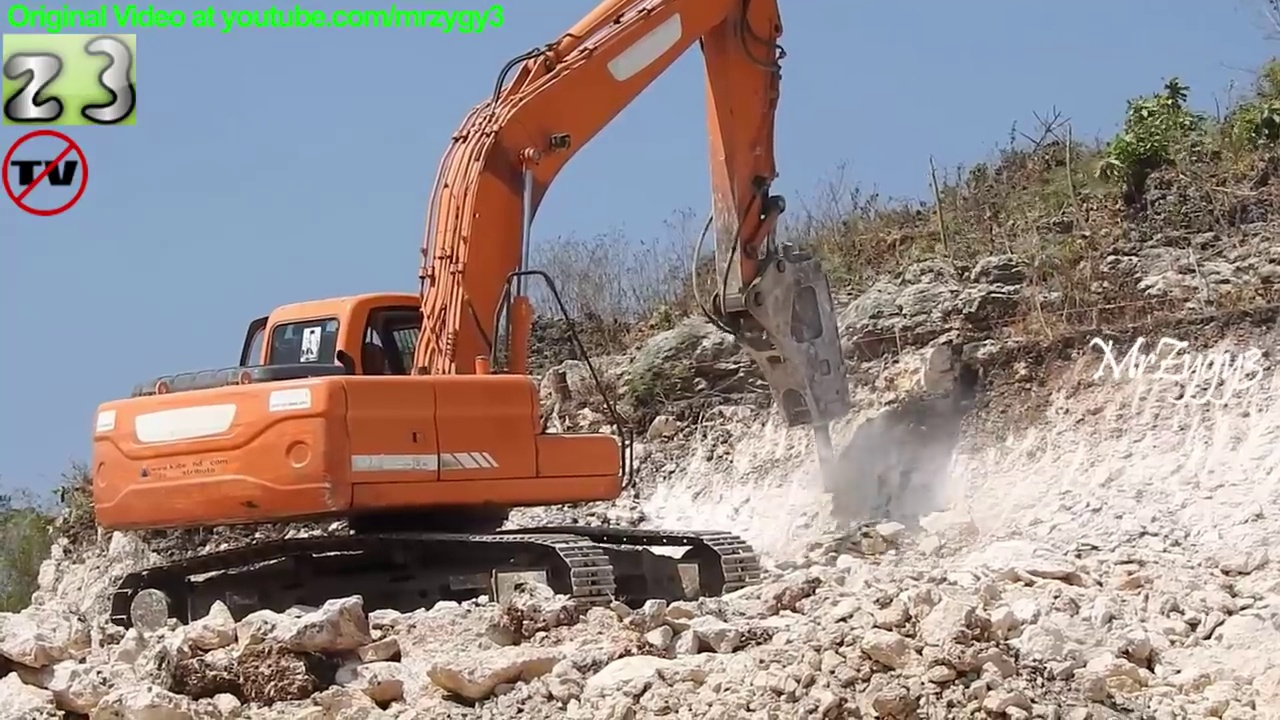excavator: (82, 1, 867, 641)
